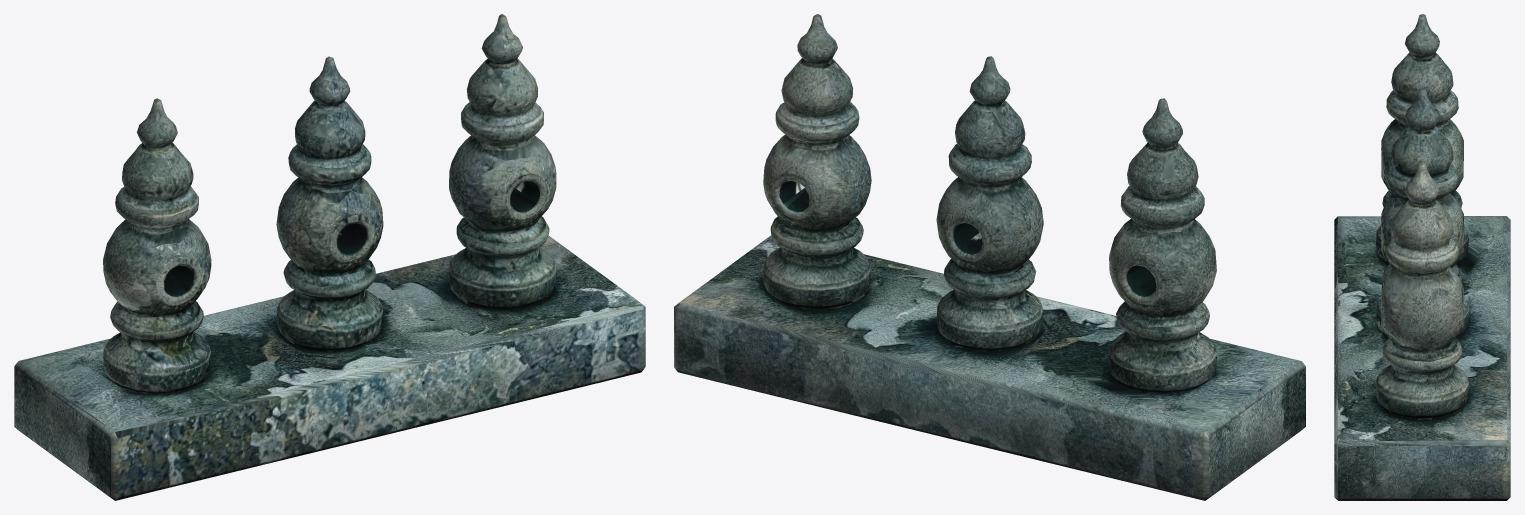
Rendered from santan.glb.
3 renders of one model, left to right at view 1: azimuth 30°, elevation 25°; view 2: azimuth 150°, elevation 25°; view 3: azimuth 270°, elevation 25°, orthographic. The views are drawn at different scales.
Visible parts, largest first — view 1: santan; view 2: santan; view 3: santan.
Part boxes in pixels (box(x1,y1,x2,y2)): santan: box(14, 14, 645, 500); santan: box(674, 14, 1305, 500); santan: box(1334, 14, 1510, 500).
Bounding box in the file's own units: 1 × 0.6167 × 0.3274.
Materials: 1 (1 with a texture image).
